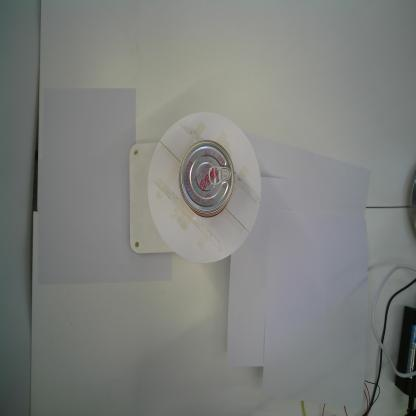Canned Food: (177, 137, 236, 221)
